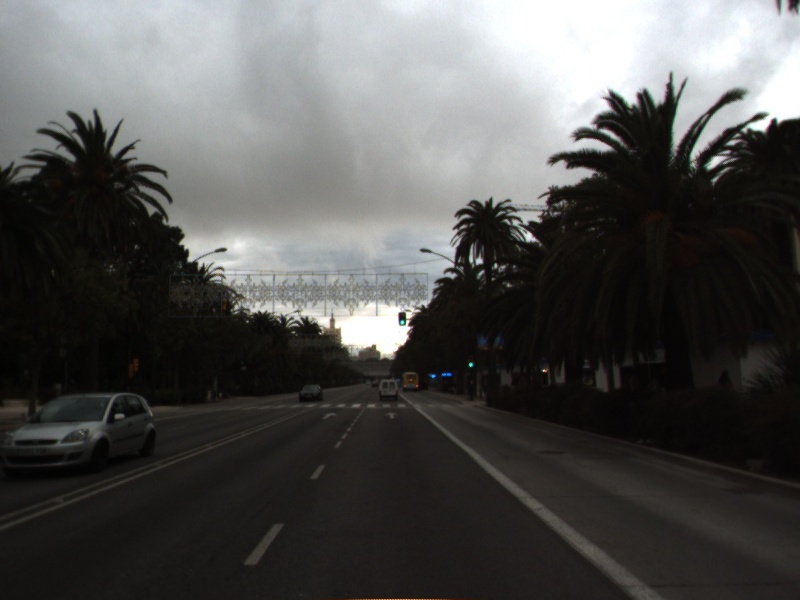STRAIGHT: (319, 410, 340, 421), (383, 410, 400, 421)
